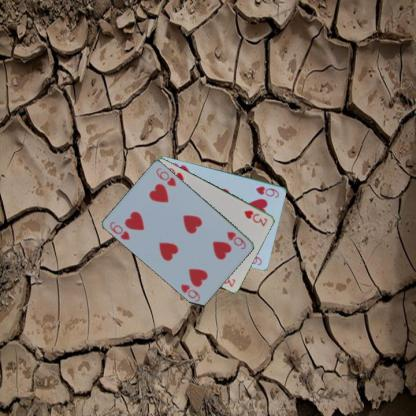3h: (242, 207, 269, 228)
6h: (225, 228, 247, 251), (108, 219, 131, 241), (253, 184, 280, 198)
